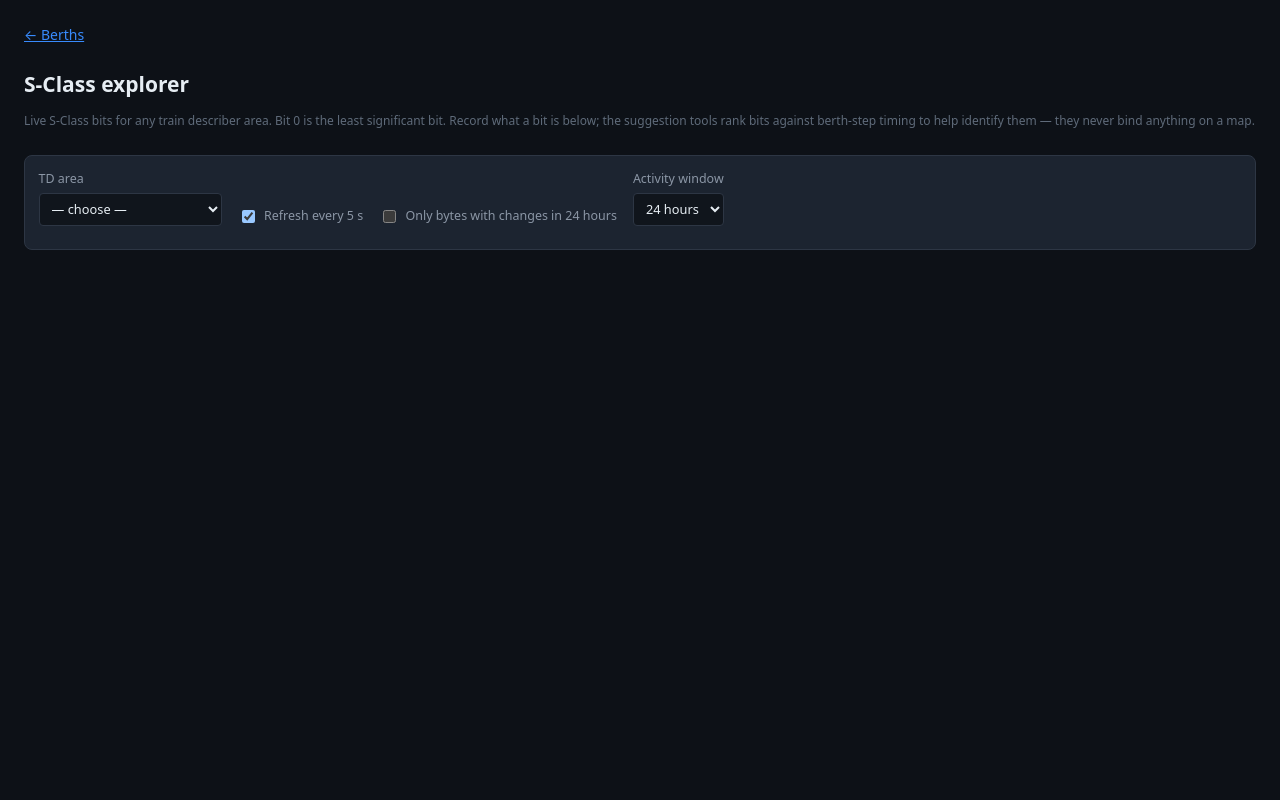
SClassExplorerPage (Milestone 36c) › says when activity is still being counted, and never overlaps refreshes (2026-10-22)
The width and height of the screenshot is (1280, 800).
Select "M9 — 1 bytes, 0 defined" in the dropdown labelled "TD area" at (130, 209), box top-left (39, 193), bottom-right (222, 226)
Wait 25000 ms
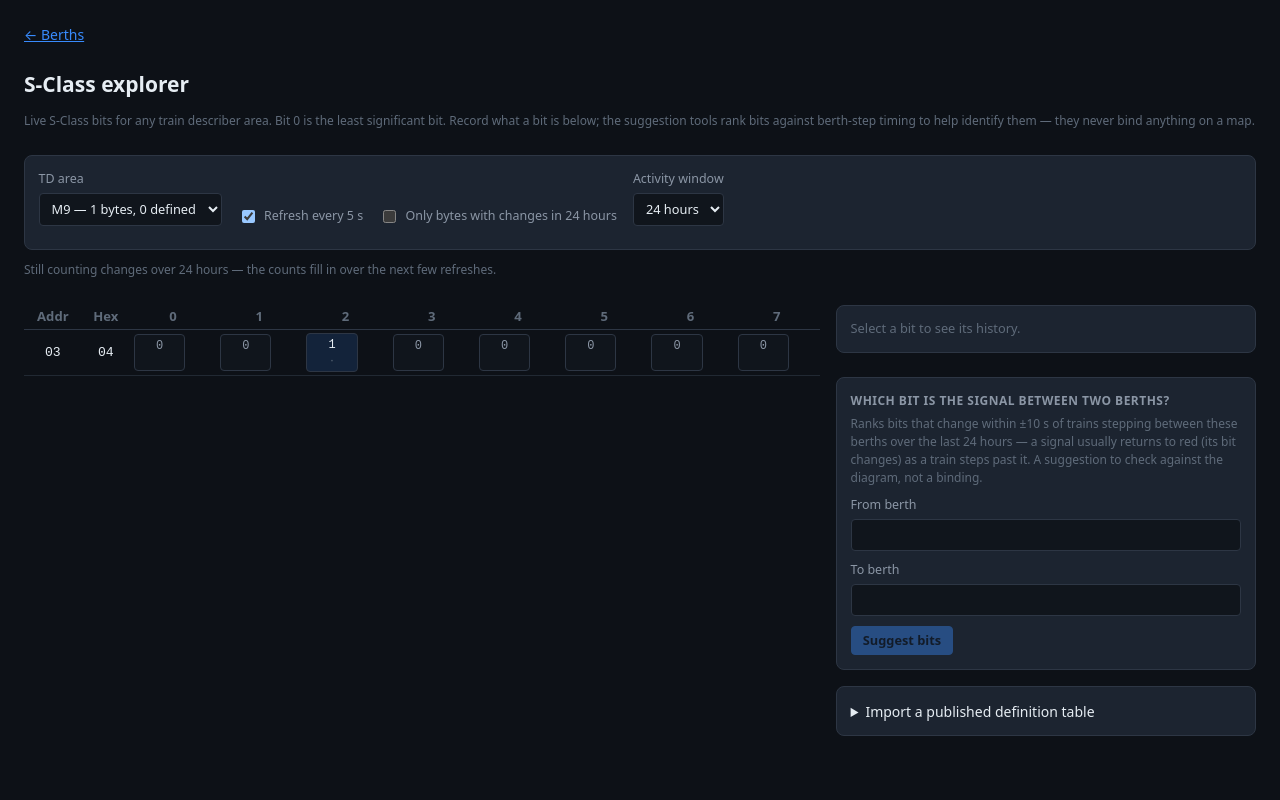
Check: the message shows "Still counting changes over 24 hours", box top-left (24, 261), bottom-right (496, 278)
